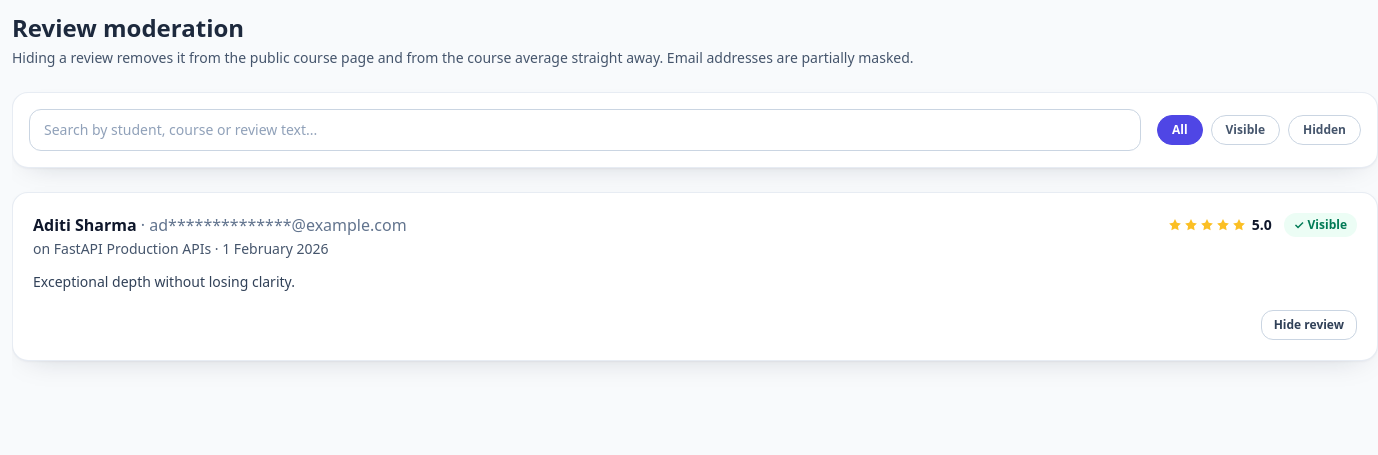
Test: AdminReviewsPage moderation › reports an error if the moderation request fails
This screenshot has width=1378, height=455.
Click the button "Hide review". click: x=1309, y=325
box: x1=1261 y1=310 x2=1357 y2=340
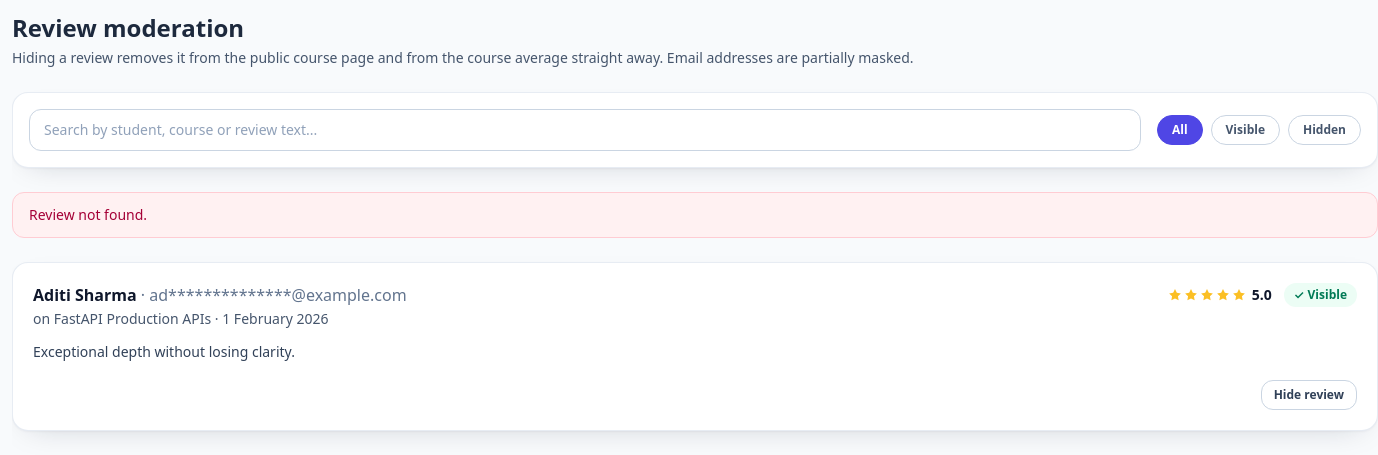
Result: the message shows "Review not found" at x1=29 y1=205 x2=147 y2=224
